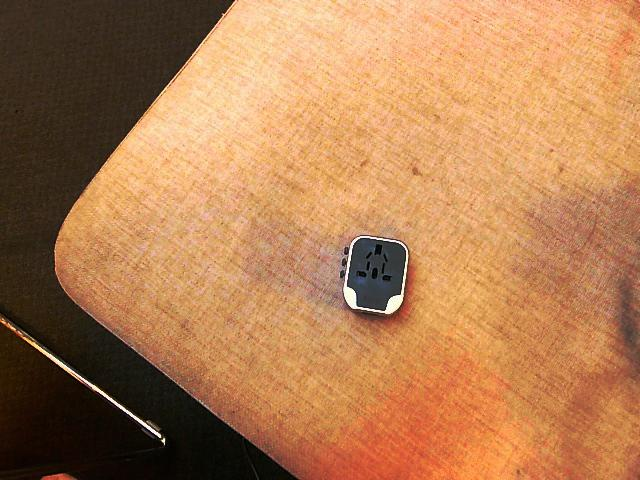adapter: (339, 234, 409, 316)
